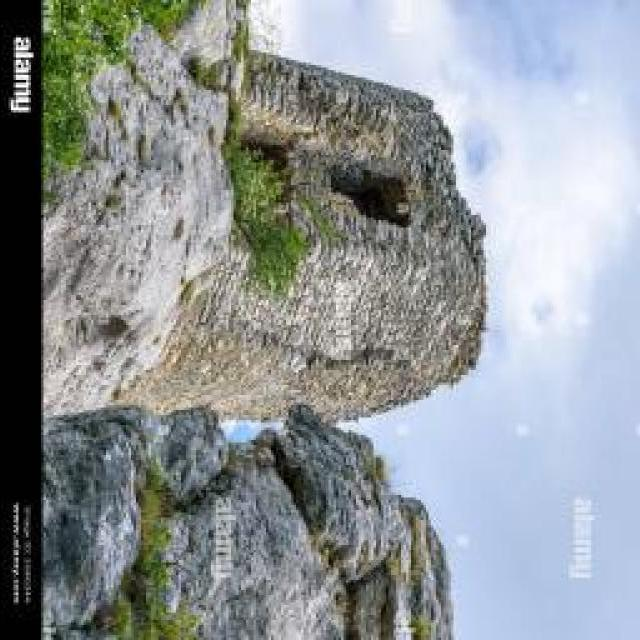vegetation: (41, 0, 488, 638), (101, 469, 219, 636), (40, 1, 132, 173), (224, 137, 313, 293)
